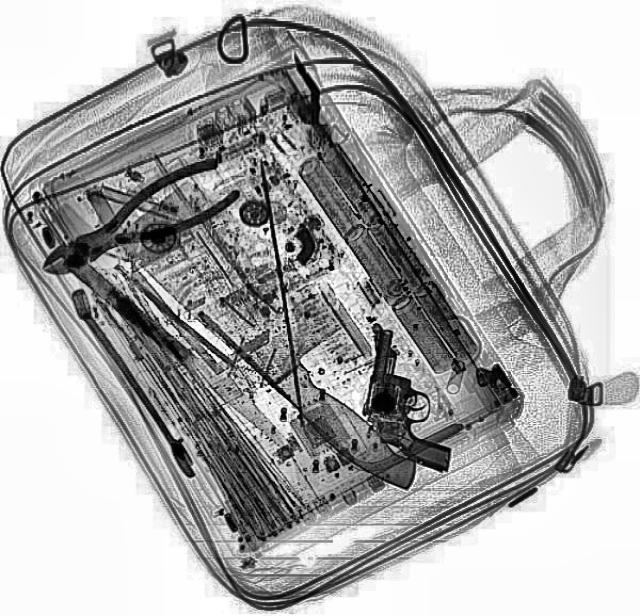Gun: (354, 324, 468, 472)
Knife: (112, 172, 468, 504)
Pliers: (24, 150, 246, 290)
